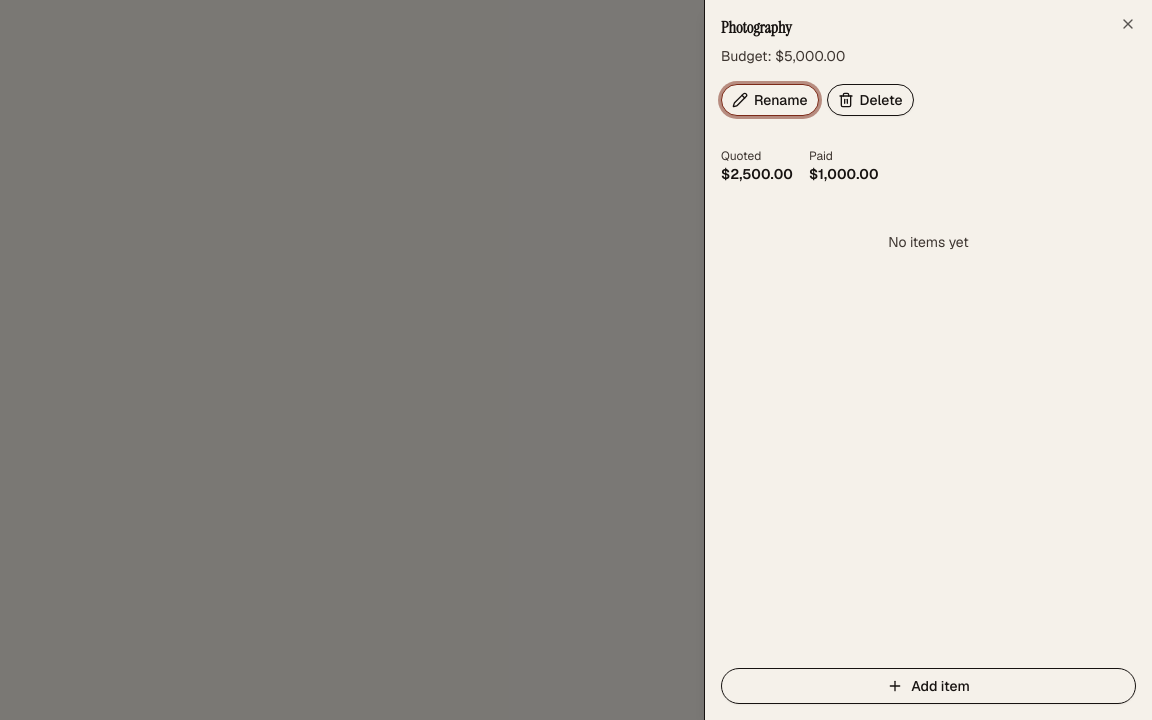
Test case: BudgetCategoryPanel › shows add item form when add button is clicked
Click the button with test id "add-item-button" at (928, 686), box [721, 668, 1136, 704]
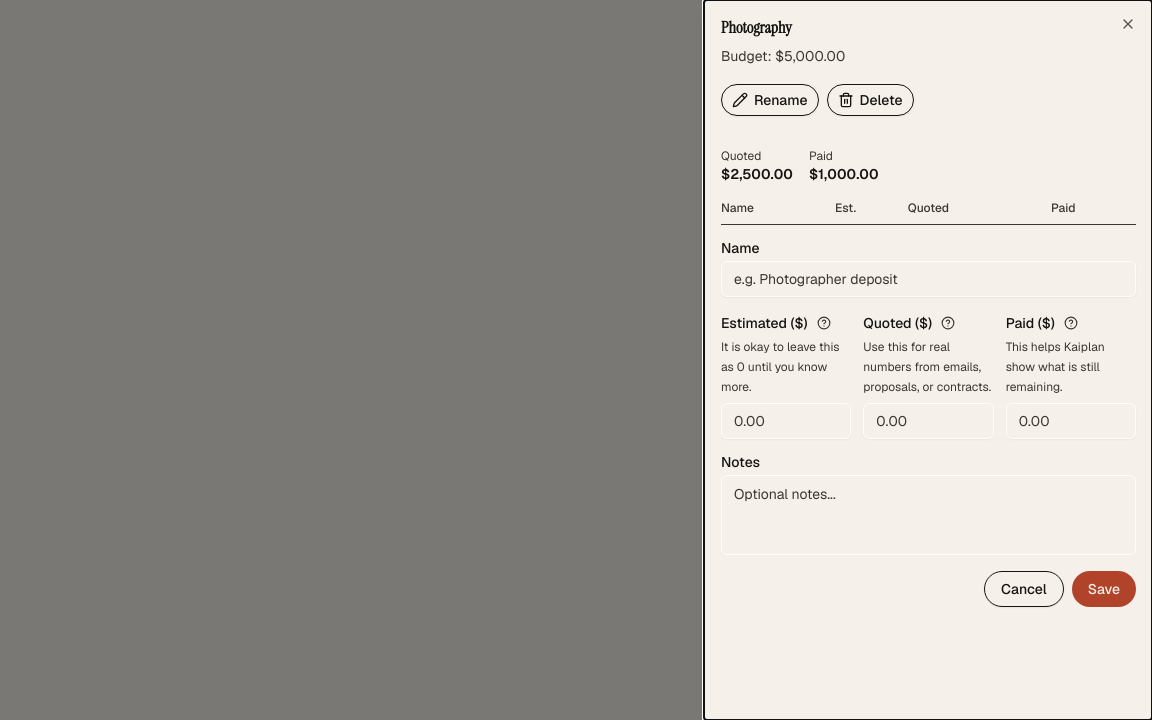
Expected: the field labelled "Name" is shown, [721, 261, 1136, 297]
Expected: the button "Save" is shown, [1072, 571, 1136, 607]
Expected: the button "Cancel" is shown, [984, 571, 1064, 607]
